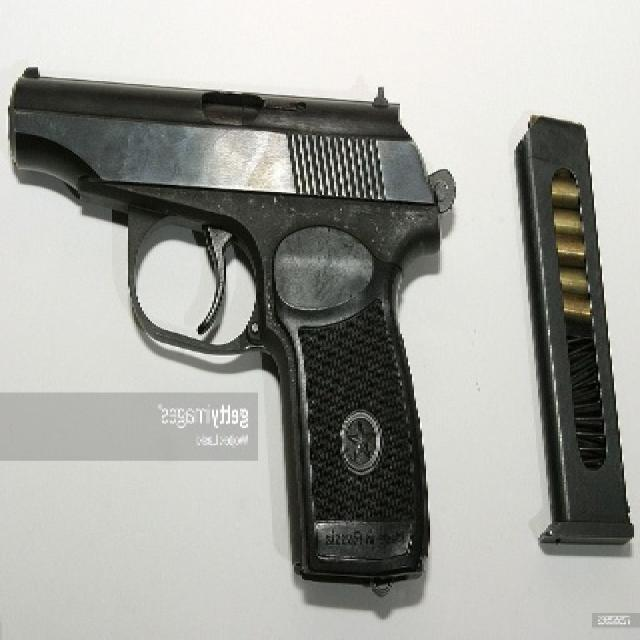handgun: (3, 68, 459, 586)
